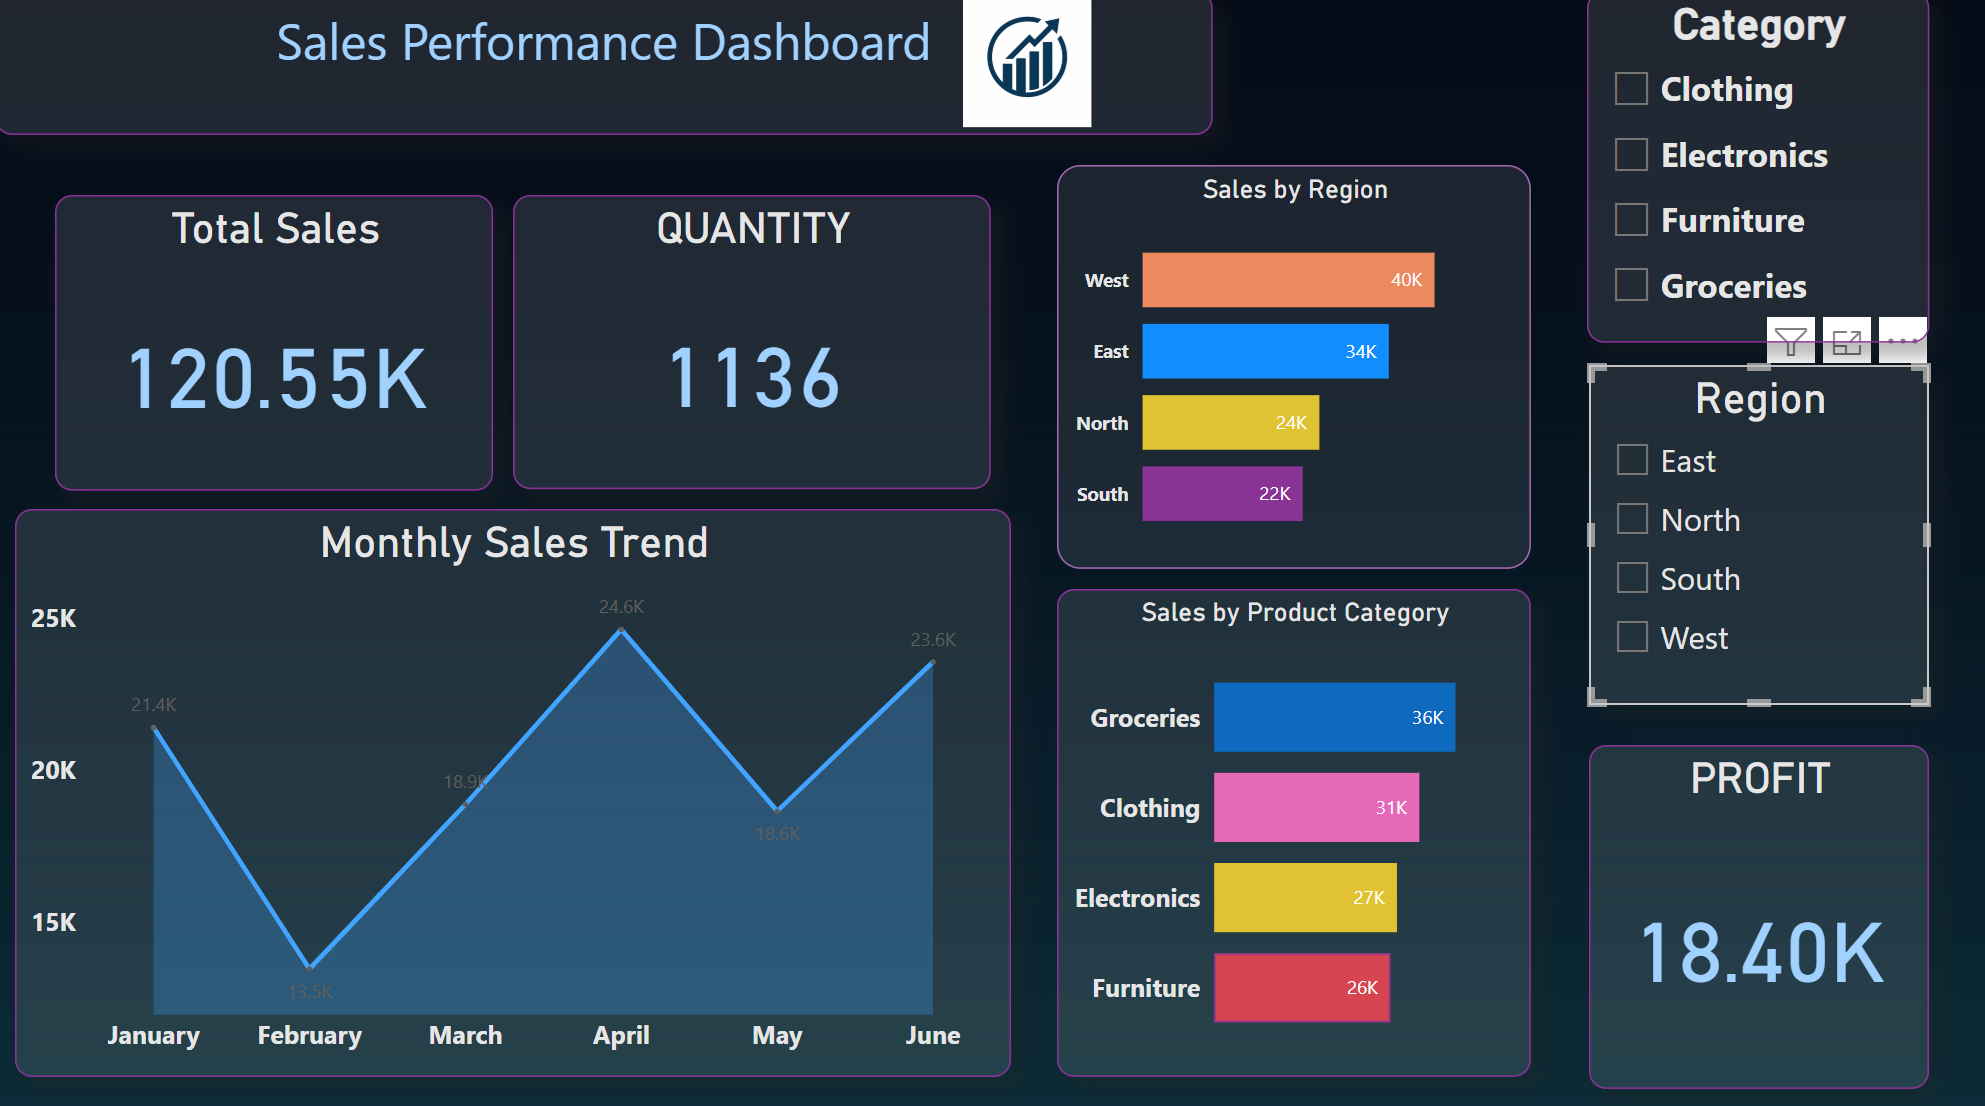

What the dashboard file says about the page in this screenshot:
{"tool":"powerbi","page":{"name":"Page 1","canvas":[1280,720],"ordinal":0},"visuals":[{"type":"card","title":"Total Sales","fields":{"Values":["Sum(Sheet1 (2).Sales)"]},"box":[38.6,131.1,281.4,190.2],"z":0},{"type":"card","title":"PROFIT","fields":{"Values":["Sum(Sheet1 (2).Profit)"]},"box":[1024.3,484.5,218.5,221],"z":1000},{"type":"card","title":"QUANTITY","fields":{"Values":["Sum(Sheet1 (2).Quantity)"]},"box":[332.9,131.1,307.1,188.9],"z":2000},{"type":"barChart","title":" Sales by Region","fields":{"Category":["Sheet1 (2).Region"],"Y":["Sum(Sheet1 (2).Sales)"]},"box":[682.4,111.8,304.6,259.6],"z":3000},{"type":"barChart","title":" Sales by Product Category","fields":{"Category":["Sheet1 (2).Product Category"],"Y":["Sum(Sheet1 (2).Sales)"]},"box":[682.4,384.3,304.6,313.6],"z":4000},{"type":"lineChart","title":"Monthly Sales Trend","fields":{"Y":["Sum(Sheet1 (2).Sales)"],"Category":["Sheet1 (2).S.Variation.Date Hierarchy.Month"]},"box":[12.9,332.9,640,365],"z":5000},{"type":"slicer","title":"Region","fields":{"Values":["Sheet1 (2).Region"]},"box":[1024.3,240.3,218.5,218.5],"z":6000},{"type":"slicer","title":"Category","fields":{"Values":["Sheet1 (2).Product Category"]},"box":[1023,0,219.8,226.2],"z":7000},{"type":"textbox","box":[0,0,782.7,92.5],"z":8000},{"type":"image","box":[604,0,118.2,92.5],"z":9000}]}

Visuals, with their boxes in screenshot pixels (x1, y1, x2, y2), scaled from the page's 1280x720 canvas onto the 1985x1106 screenshot:
"Total Sales" card: <bbox>60, 201, 496, 494</bbox>
"PROFIT" card: <bbox>1588, 744, 1927, 1084</bbox>
"QUANTITY" card: <bbox>516, 201, 992, 492</bbox>
" Sales by Region" barChart: <bbox>1058, 172, 1531, 571</bbox>
" Sales by Product Category" barChart: <bbox>1058, 590, 1531, 1072</bbox>
"Monthly Sales Trend" lineChart: <bbox>20, 511, 1013, 1072</bbox>
"Region" slicer: <bbox>1588, 369, 1927, 705</bbox>
"Category" slicer: <bbox>1586, 0, 1927, 347</bbox>
textbox: <bbox>0, 0, 1214, 142</bbox>
image: <bbox>937, 0, 1120, 142</bbox>
